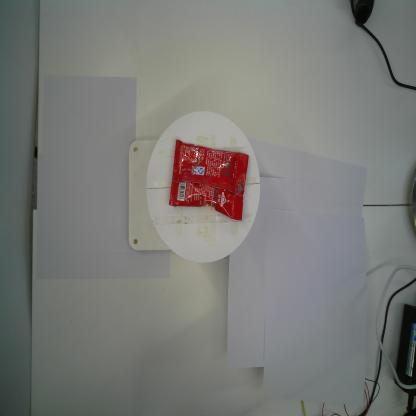Instant Drink: (168, 138, 249, 222)
